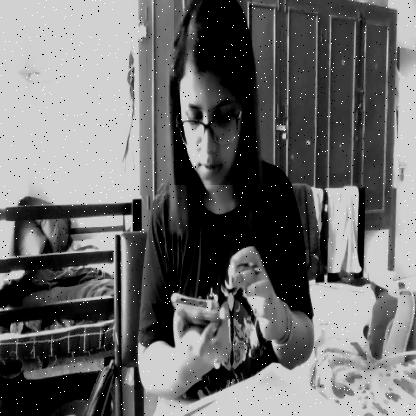Normal: (174, 0, 252, 185)
